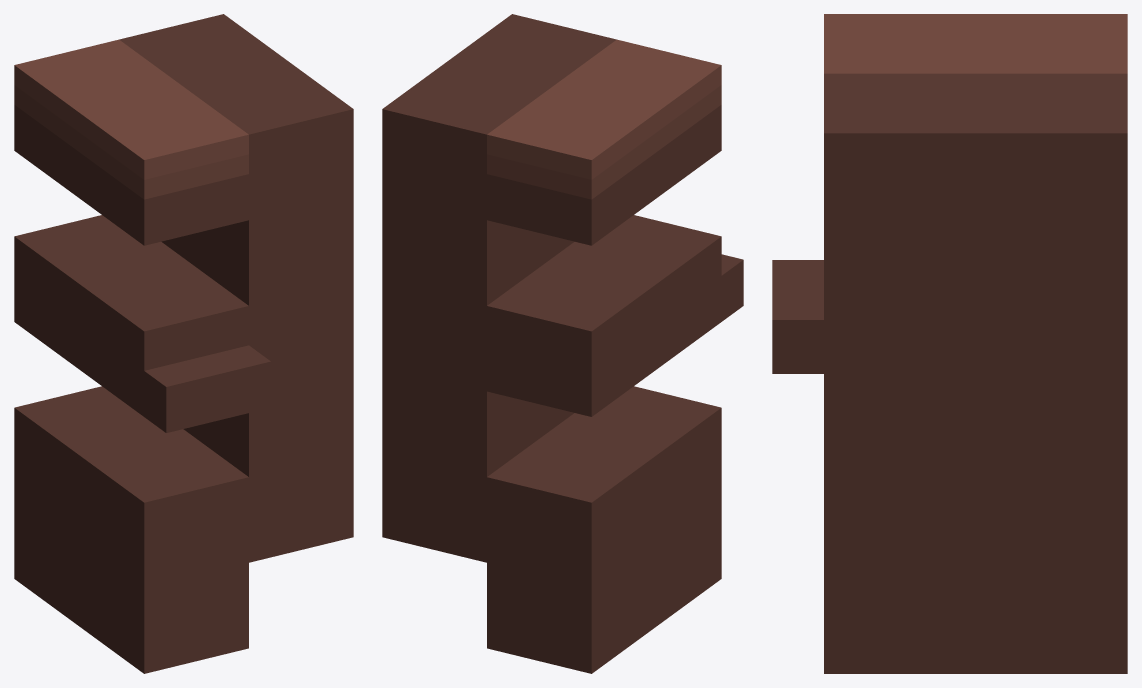
Rendered from Fase_2_Parte_8S.fbx.
3 views of the same model, side by side, from view 1: azimuth 30°, elevation 25°; view 2: azimuth 150°, elevation 25°; view 3: azimuth 270°, elevation 25° (orthographic). The views are drawn at different scales.
Visible parts, largest first — view 1: Plane.015, Plane.012, Plane.016, Plane.045, Plane.103, Plane.044, Plane.011, Plane.014, Plane.022, Plane.042, Plane.041, Plane.043 (+2 smaller); view 2: Plane.011, Plane.014, Plane.022, Plane.051, Plane.106, Plane.015, Plane.047, Plane.049, Plane.012, Plane.016, Plane.048, Plane.046 (+2 smaller); view 3: Plane.051, Plane.045, Plane.049, Plane.046, Plane.047, Plane.048, Plane.041, Plane.042, Plane.043, Plane.044, Plane.011, Plane.012 (+3 smaller).
Part boxes in pixels (left/top/right/bottom): Plane.015: left=79, top=258, right=270, bottom=432; Plane.012: left=79, top=87, right=248, bottom=245; Plane.016: left=79, top=429, right=248, bottom=588; Plane.045: left=184, top=61, right=353, bottom=219; Plane.103: left=79, top=541, right=248, bottom=673; Plane.044: left=184, top=195, right=353, bottom=305; Plane.011: left=14, top=39, right=183, bottom=197; Plane.014: left=14, top=215, right=183, bottom=368; Plane.022: left=14, top=386, right=183, bottom=540; Plane.042: left=184, top=366, right=353, bottom=476; Plane.041: left=249, top=451, right=353, bottom=562; Plane.043: left=249, top=280, right=353, bottom=385; Plane.011: left=487, top=87, right=656, bottom=245; Plane.014: left=487, top=258, right=656, bottom=416; Plane.022: left=487, top=429, right=656, bottom=588; Plane.051: left=382, top=61, right=551, bottom=219; Plane.106: left=487, top=541, right=656, bottom=673; Plane.015: left=552, top=215, right=743, bottom=368; Plane.047: left=382, top=366, right=551, bottom=476; Plane.049: left=382, top=195, right=551, bottom=305; Plane.012: left=552, top=39, right=721, bottom=197; Plane.016: left=552, top=386, right=721, bottom=540; Plane.048: left=382, top=280, right=486, bottom=391; Plane.046: left=382, top=451, right=486, bottom=562; Plane.051: left=975, top=73, right=1127, bottom=233; Plane.045: left=824, top=73, right=975, bottom=233; Plane.049: left=975, top=233, right=1127, bottom=333; Plane.046: left=975, top=533, right=1127, bottom=633; Plane.047: left=975, top=433, right=1127, bottom=533; Plane.048: left=975, top=333, right=1127, bottom=433; Plane.041: left=824, top=533, right=975, bottom=633; Plane.042: left=824, top=433, right=975, bottom=533; Plane.043: left=824, top=333, right=975, bottom=433; Plane.044: left=824, top=233, right=975, bottom=333; Plane.011: left=975, top=14, right=1127, bottom=73; Plane.012: left=824, top=14, right=975, bottom=73.
Size of the model in its own units: 3440 by 8064 by 4324.
